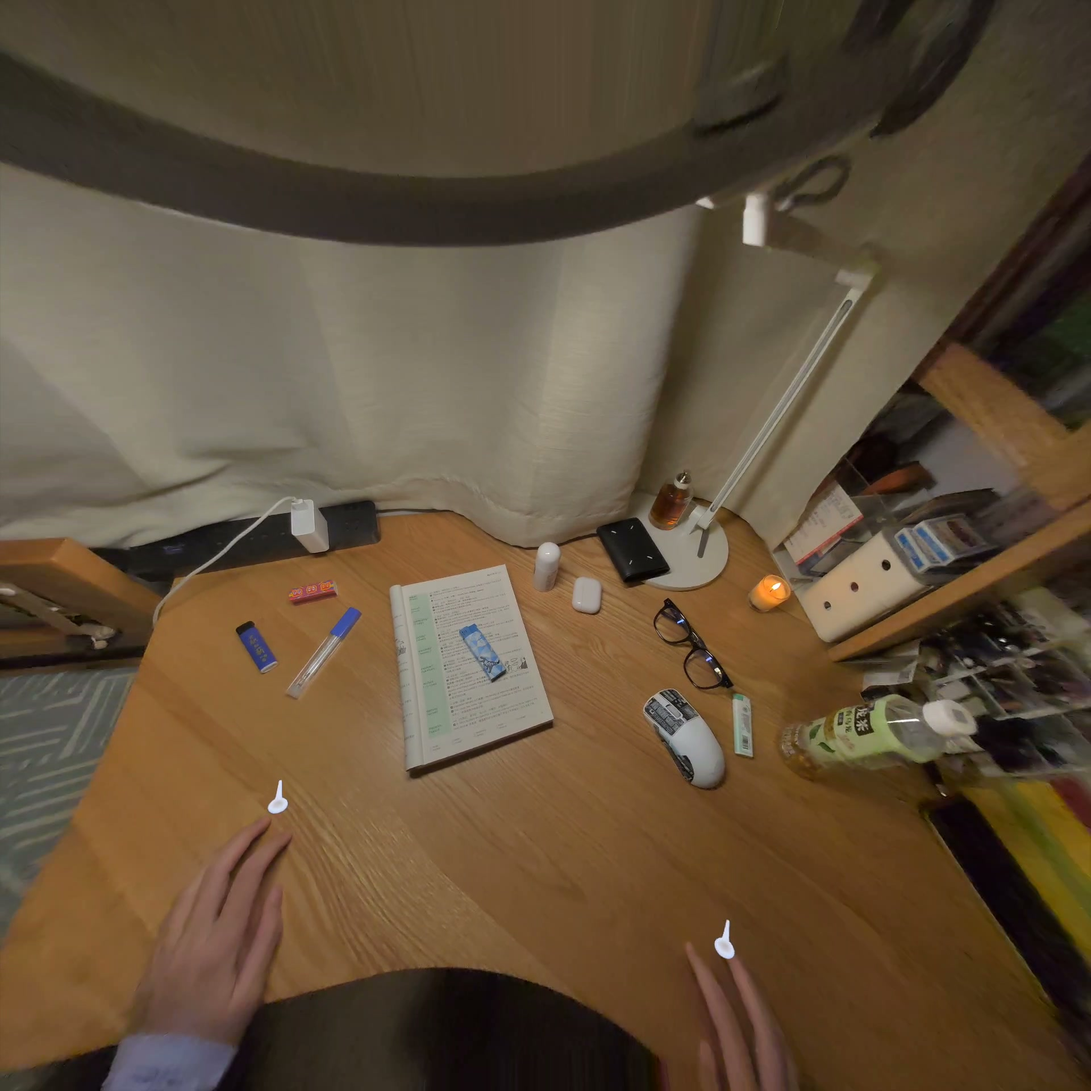lighter: (459, 624, 506, 681)
